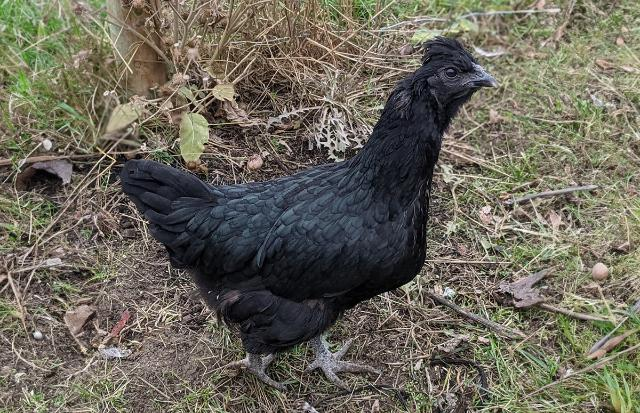Chicken: (119, 35, 501, 391)
